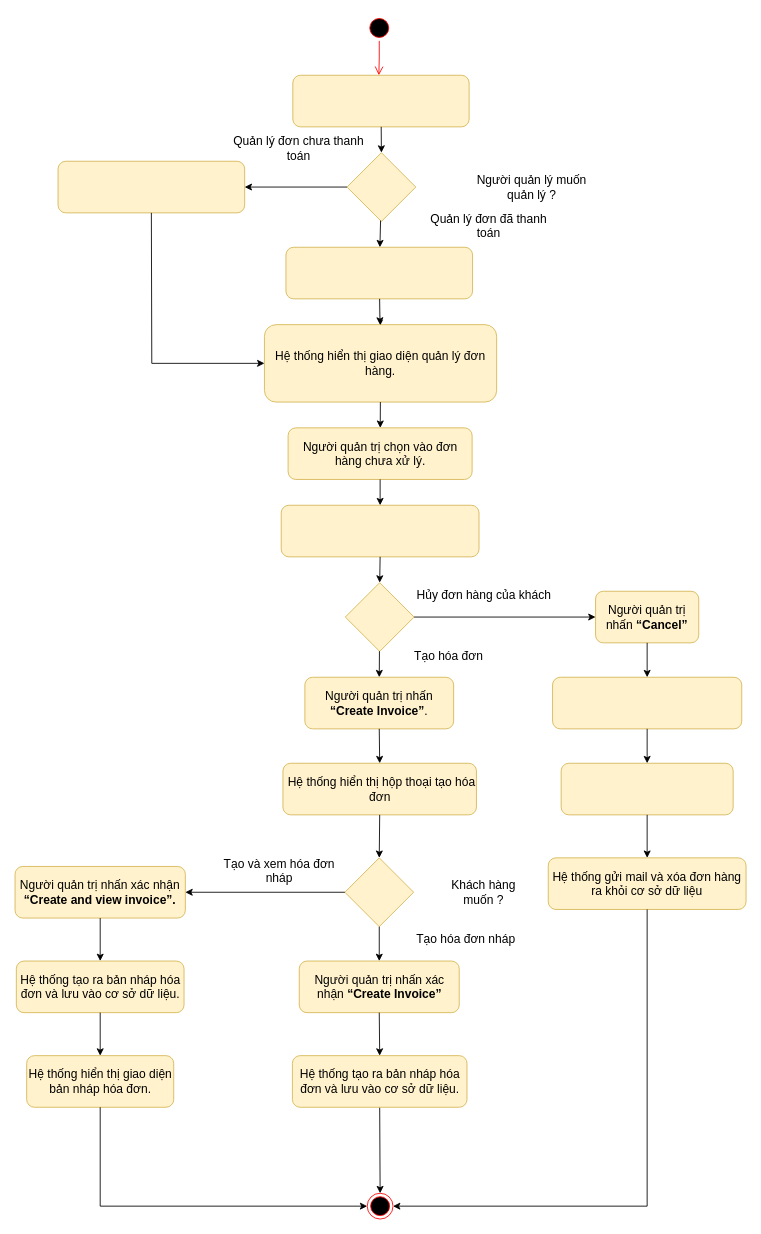
The diagram is 761 pixels wide and 1234 high, and some of its shapes have lost their labels. The shapes that lost their labels are listed below. From the top down, each one's centre as x and y in pixels, then its label:
[380,100]: Người quản trị chọn mục “Thương mại điện tử”
[151,186]: Mục "Đơn hàng chưa thanh toán"
[379,272]: Mục "Đơn hàng đã thanh toán"
[379,530]: Hệ thông hiển thị thông tin chi tiết đơn hàng.
[647,702]: Hệ thống hiển thị hộp thoại với nội dung mail sẽ gửi
[646,788]: Người quản trị nhấn xác nhận “Send and cancel”
